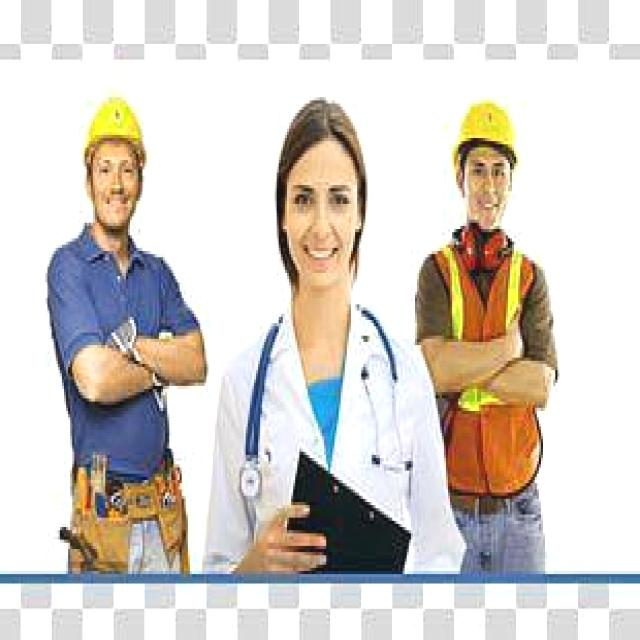face_nomask: (289, 169, 355, 270), (91, 138, 142, 232), (460, 150, 508, 226)
hand_noglove: (227, 499, 324, 583)
head_helmet: (84, 85, 148, 157), (451, 91, 515, 157)
head_nohelmet: (266, 103, 380, 179)
person: (207, 91, 436, 565), (48, 84, 202, 562), (417, 88, 549, 549)
vest: (415, 229, 553, 489)
